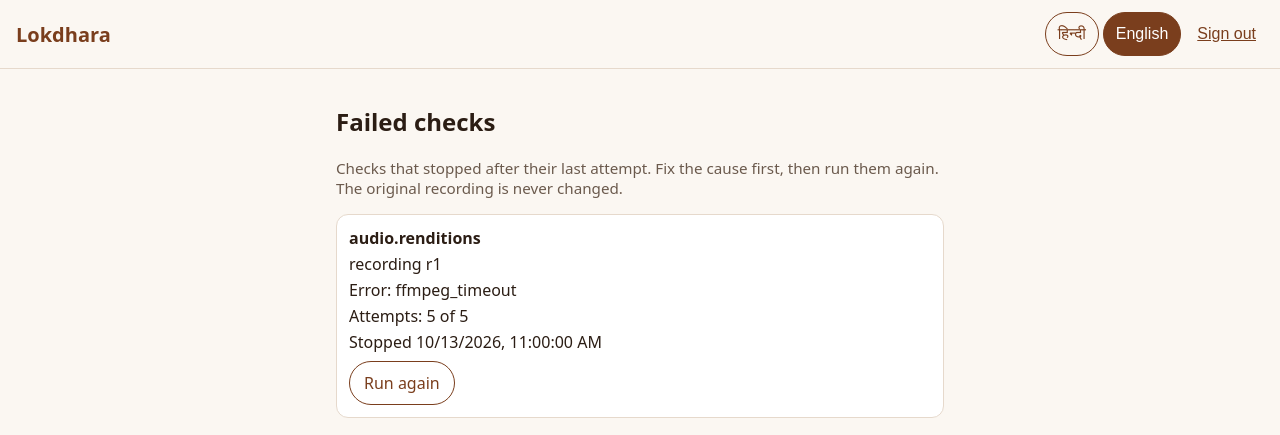
Test case: failed checks › lets an admin run a failed check again
The image size is (1280, 435).
Expected: the text "audio.renditions" is shown, [349, 227, 481, 249]
Expected: the text "Error: ffmpeg_timeout" is shown, [349, 279, 516, 301]
Step 1. Click the button "Run again" → (402, 383), box [349, 361, 455, 405]
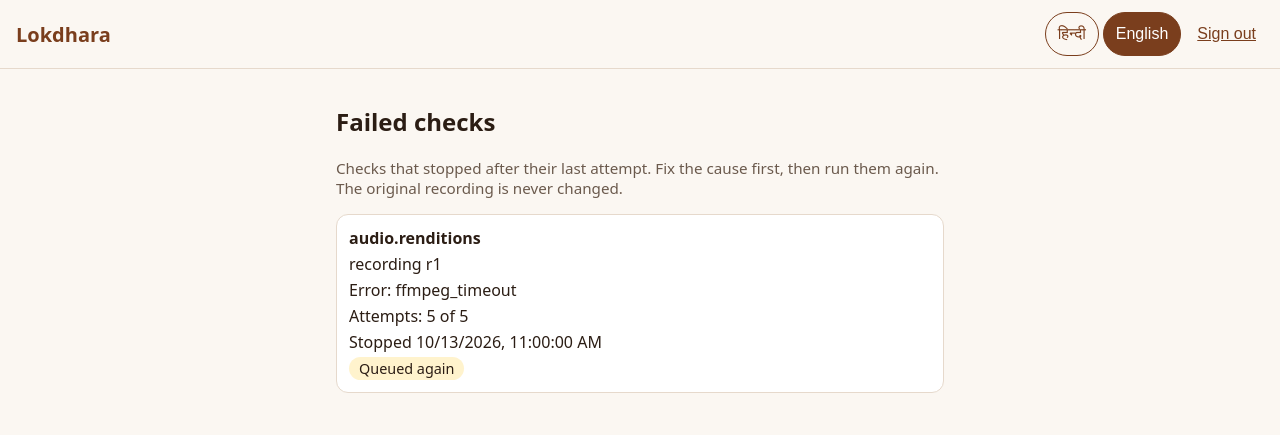
Now the text "Queued again" is shown, box [349, 357, 464, 380]
